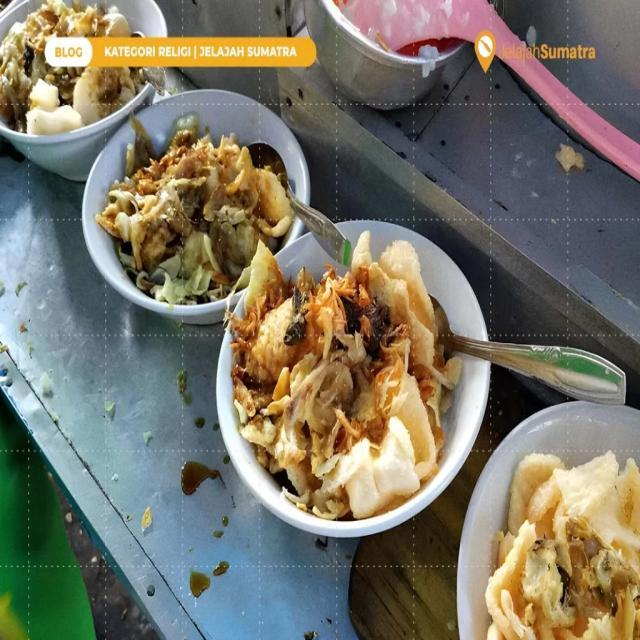bubur ayam: (234, 228, 461, 518), (99, 126, 288, 302), (482, 448, 638, 636), (0, 0, 146, 135)
mangkuk: (214, 218, 494, 540), (80, 88, 312, 328), (454, 400, 640, 640), (0, 0, 169, 184)
